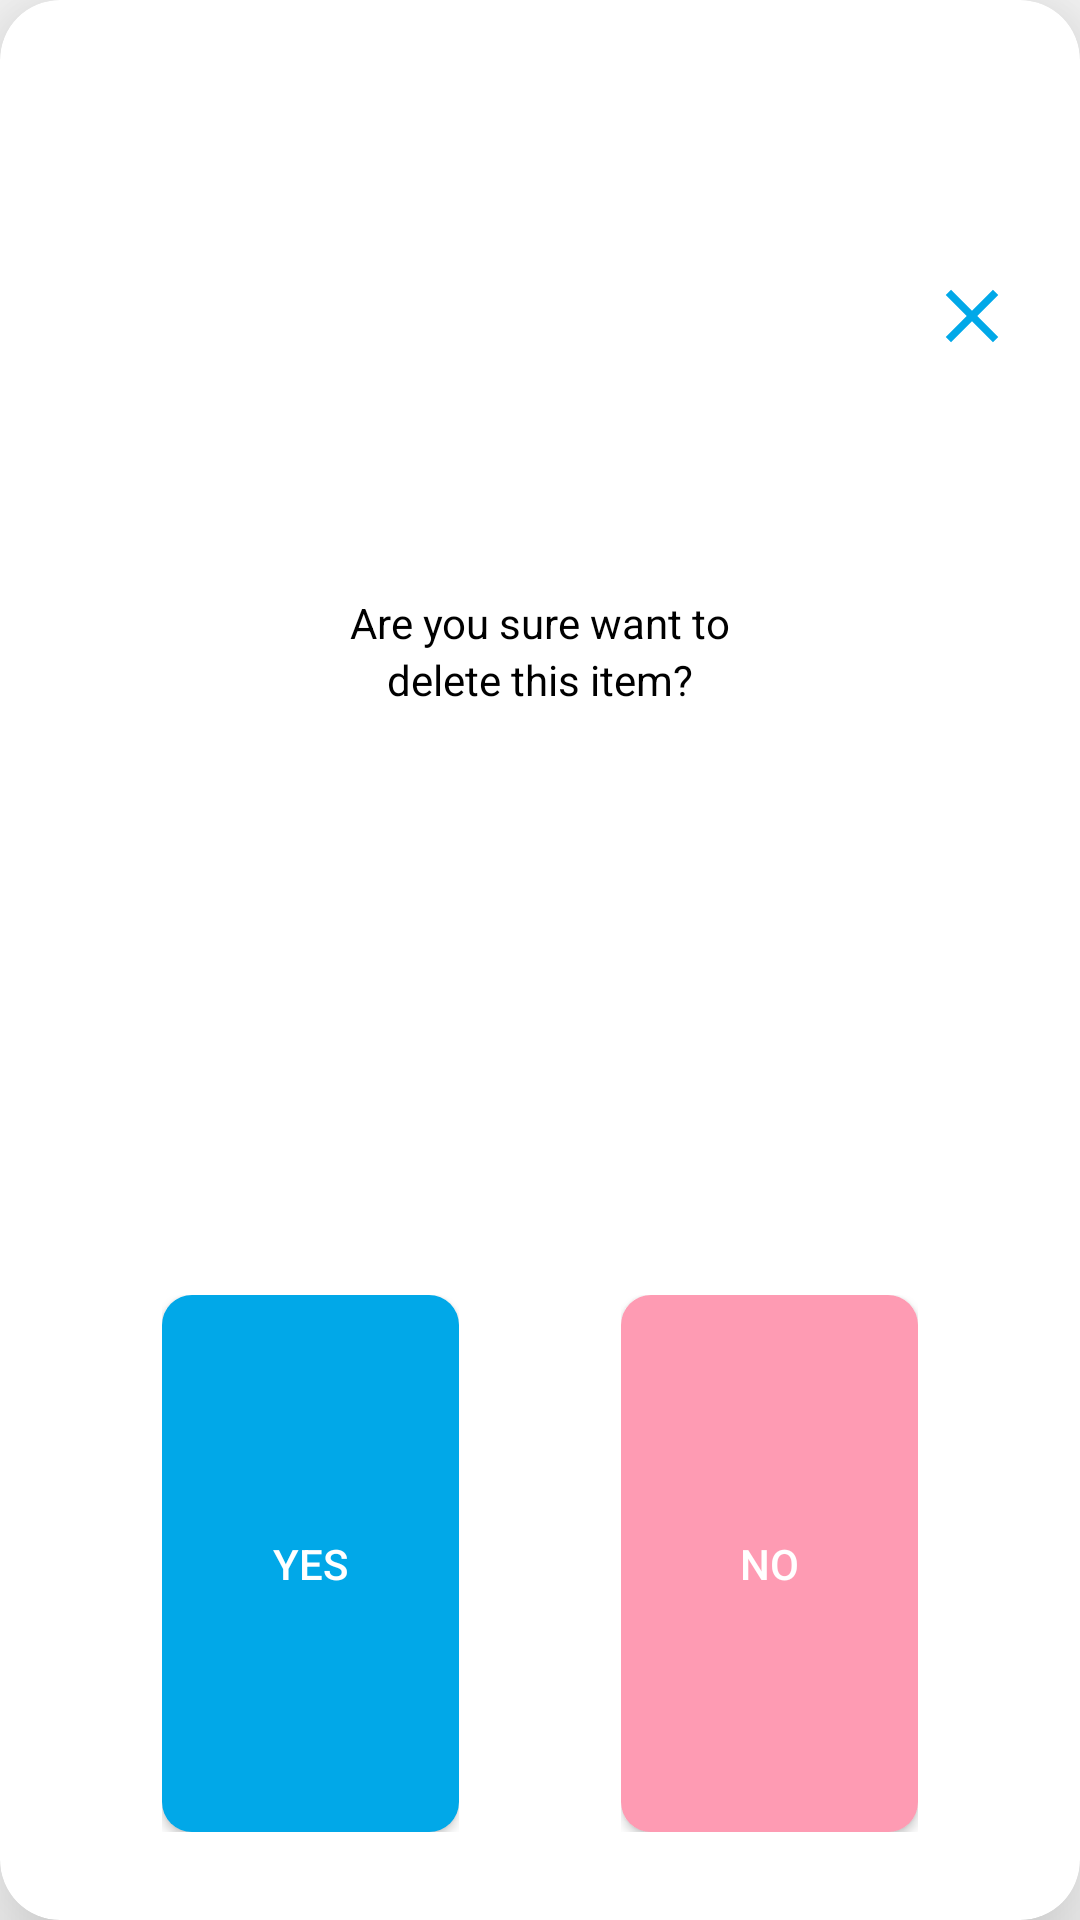

Icons on this 1080px x 1920px Android screen, each with its box as (x1,y1,x2,y2):
close: (946,290,998,342)
